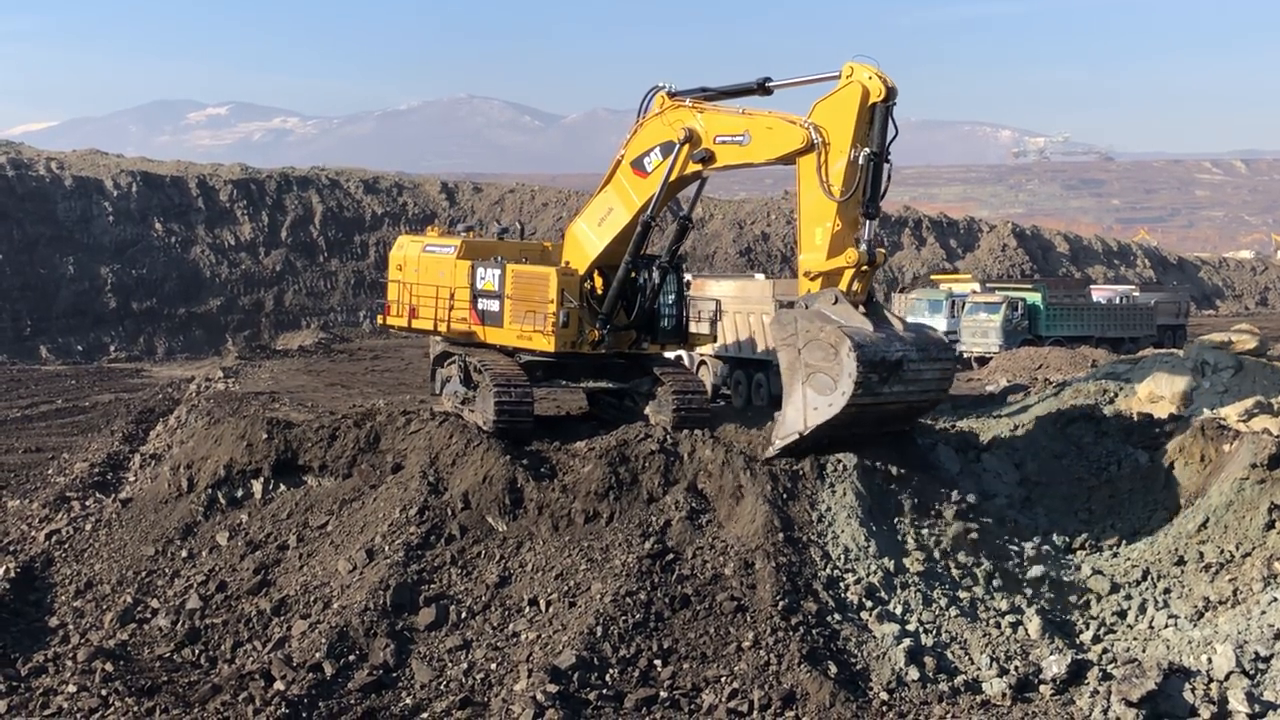empty: (764, 286, 968, 461)
